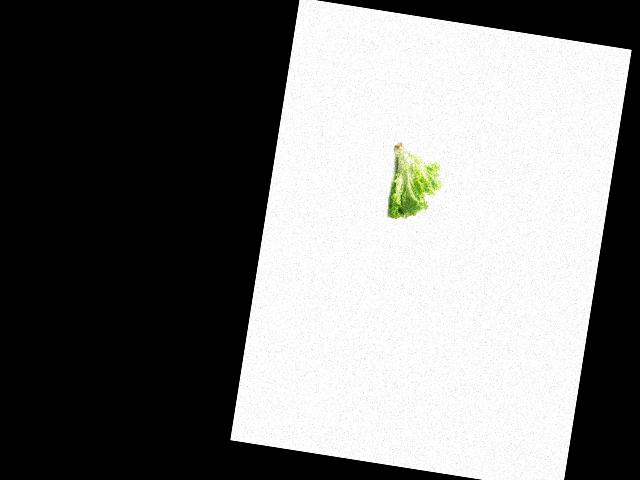lettuce: (382, 139, 448, 224)
